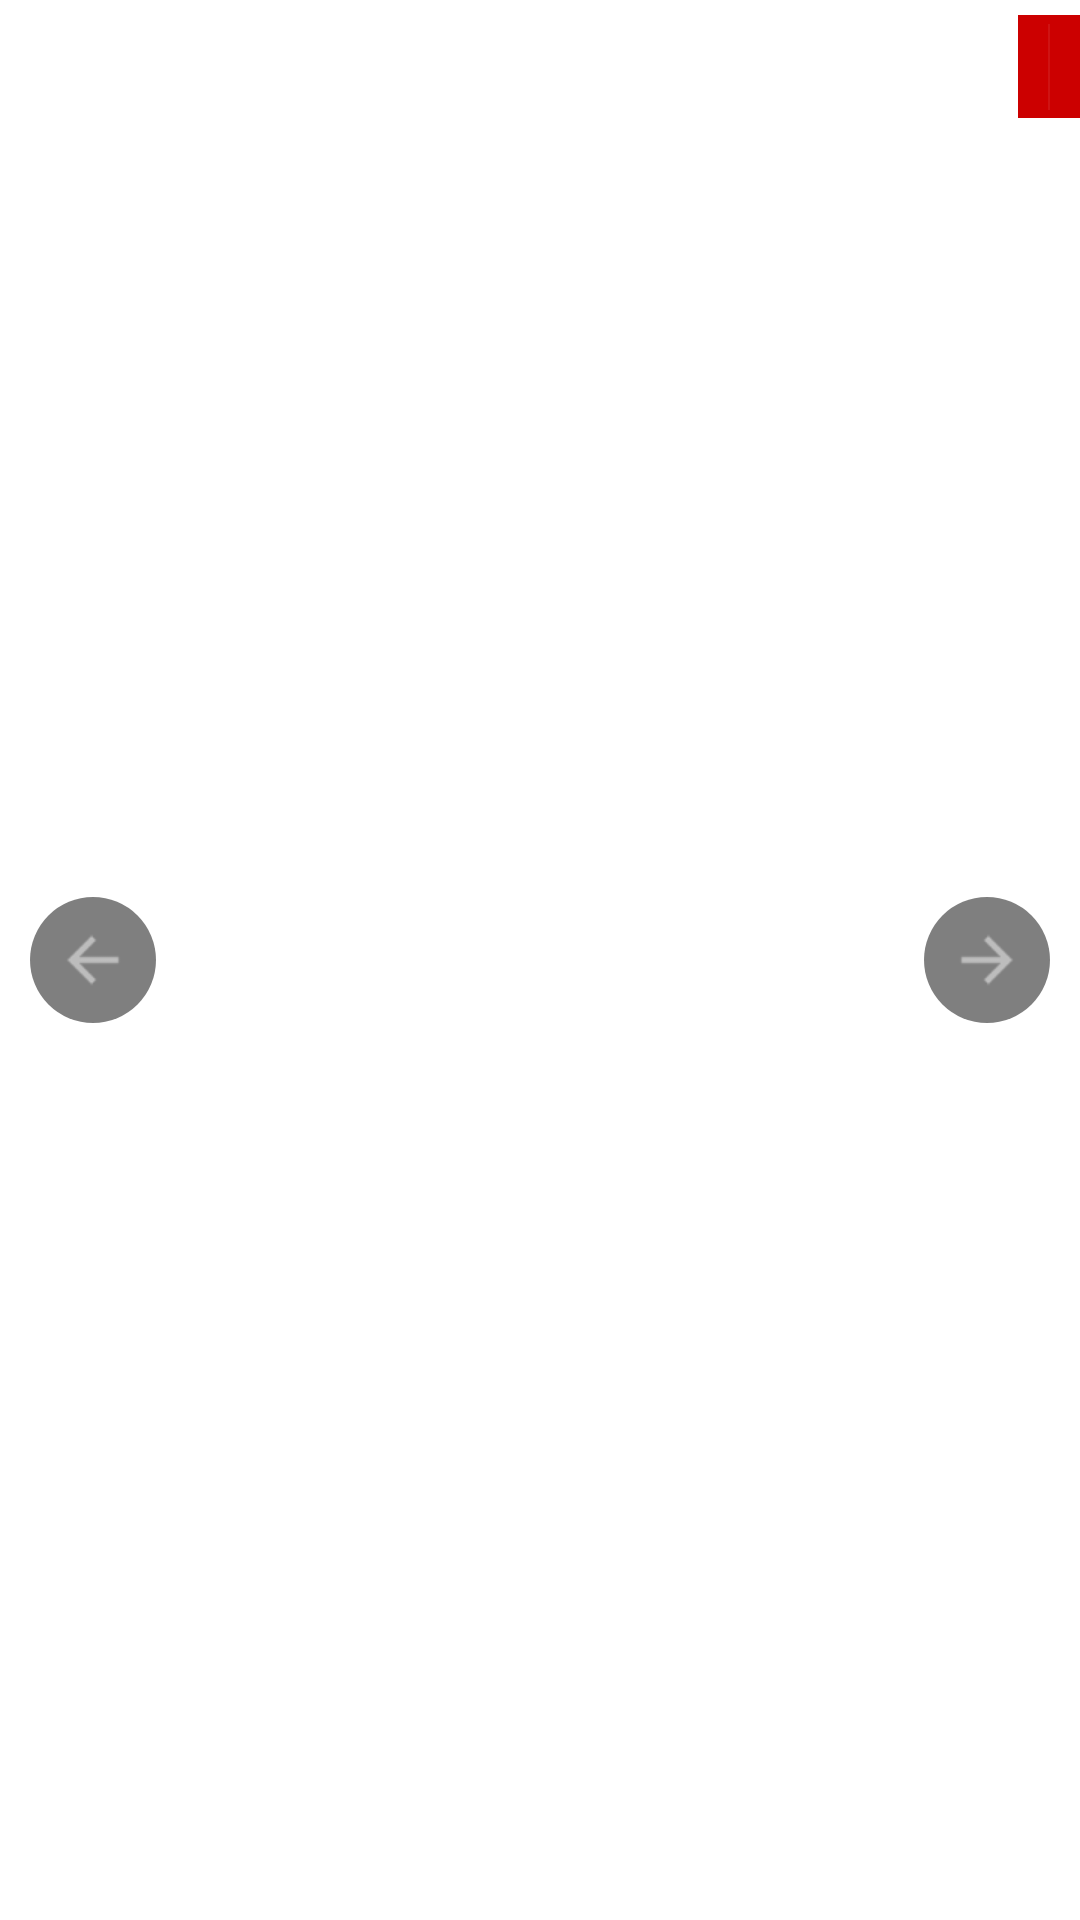

Screen size 1080px x 1920px. Icon name, then its box in pixels as (x1, y1, x2, y2):
Back: (30, 897, 156, 1023)
Forward: (924, 897, 1050, 1023)
